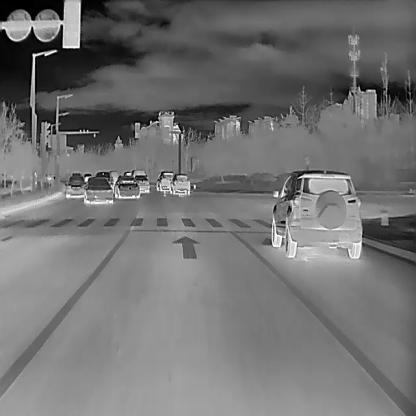car: (271, 169, 361, 258), (84, 176, 113, 203), (113, 174, 139, 197), (64, 174, 84, 197), (169, 173, 189, 195), (156, 170, 174, 191), (134, 173, 149, 193)
